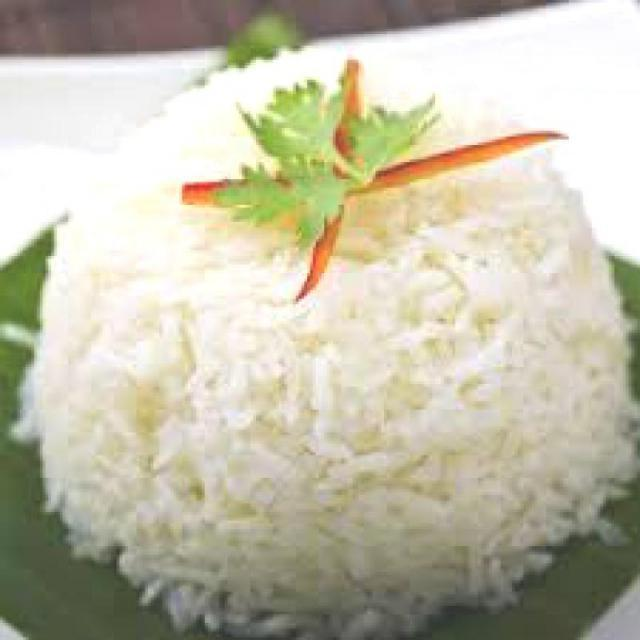Chicken -Chicken Inasal-: (23, 44, 639, 639)
